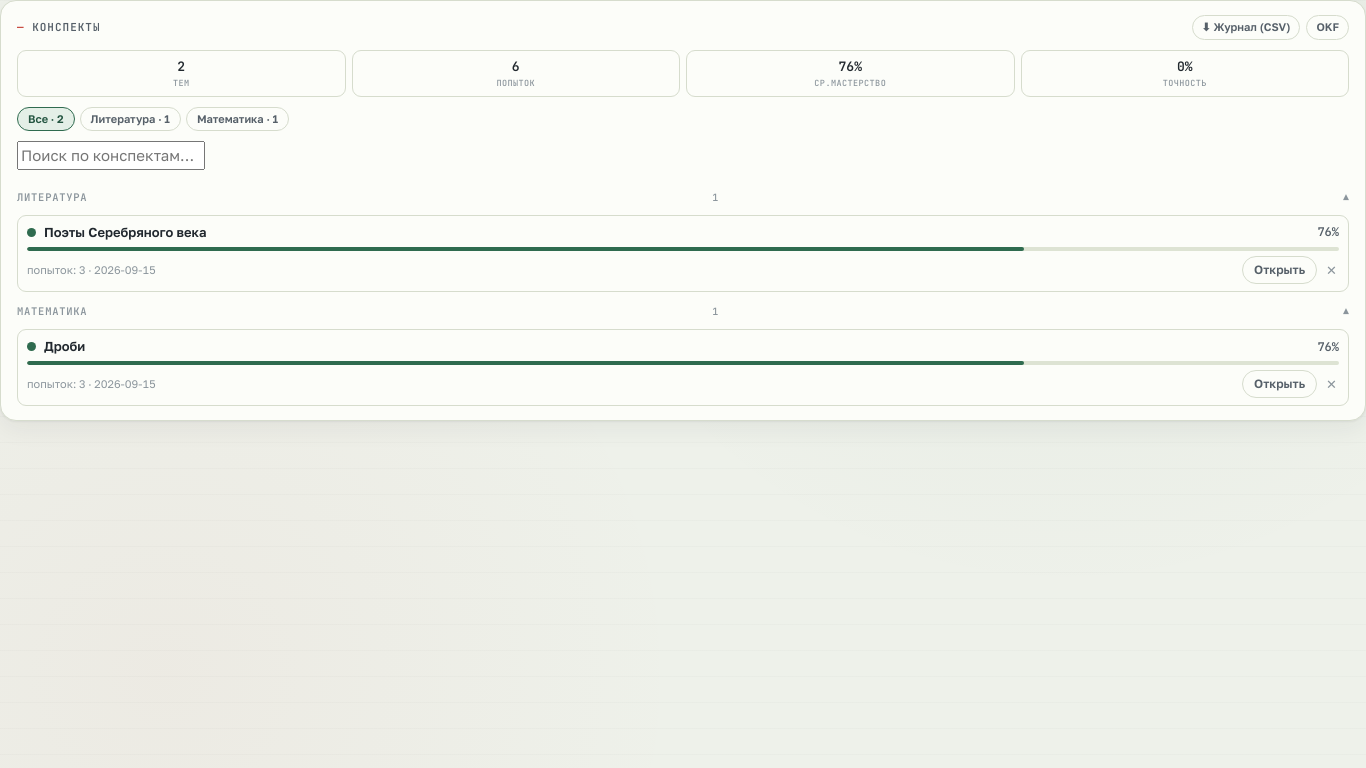
it: <KnowledgeWikiPanel/> › сворачивание subject: клик скрывает статьи предмета
Expected: the button "Литература · 1" is shown, [80,107,181,131]
Click the heading "Литература". click: (52, 198)
box: [17,190,87,206]
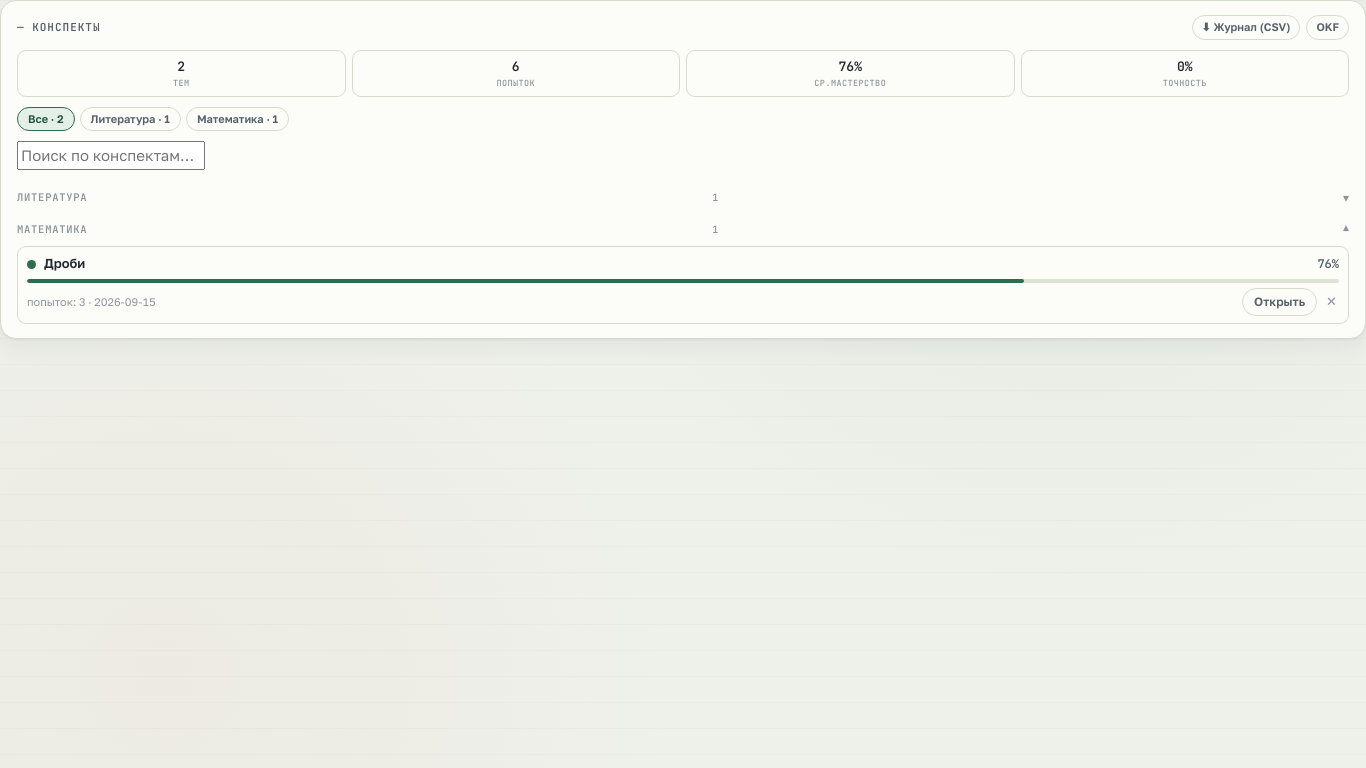
Now the button "Поэты Серебряного века" is gone
